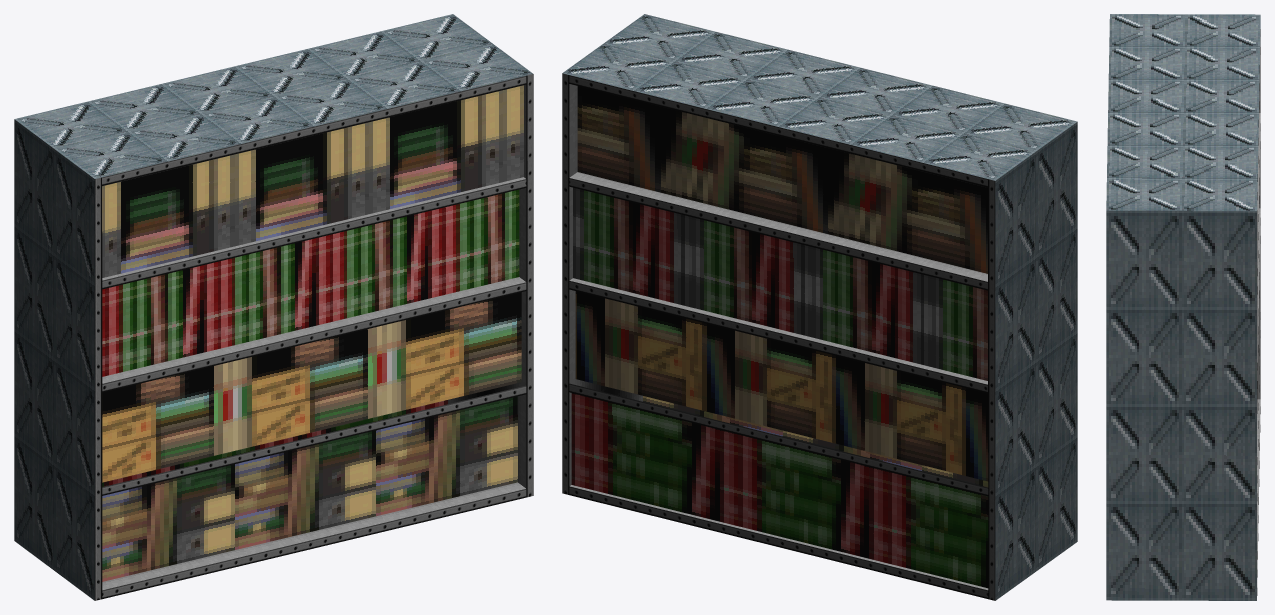
File: primary_183.glb
The picture shows the model from 3 angles, left to right: view 1: azimuth 30°, elevation 25°; view 2: azimuth 150°, elevation 25°; view 3: azimuth 270°, elevation 25°; orthographic projection. The views are drawn at different scales.
Parts seen in each view (by area): view 1: Object; view 2: Object; view 3: Object.
Part boxes in pixels (x1,y1,x2,y2): Object: (14,14,533,600); Object: (562,14,1077,600); Object: (1106,14,1260,600).
Size of the model in its own units: 2.69 by 2.48 by 0.8905.
16 materials, 16 textured.
